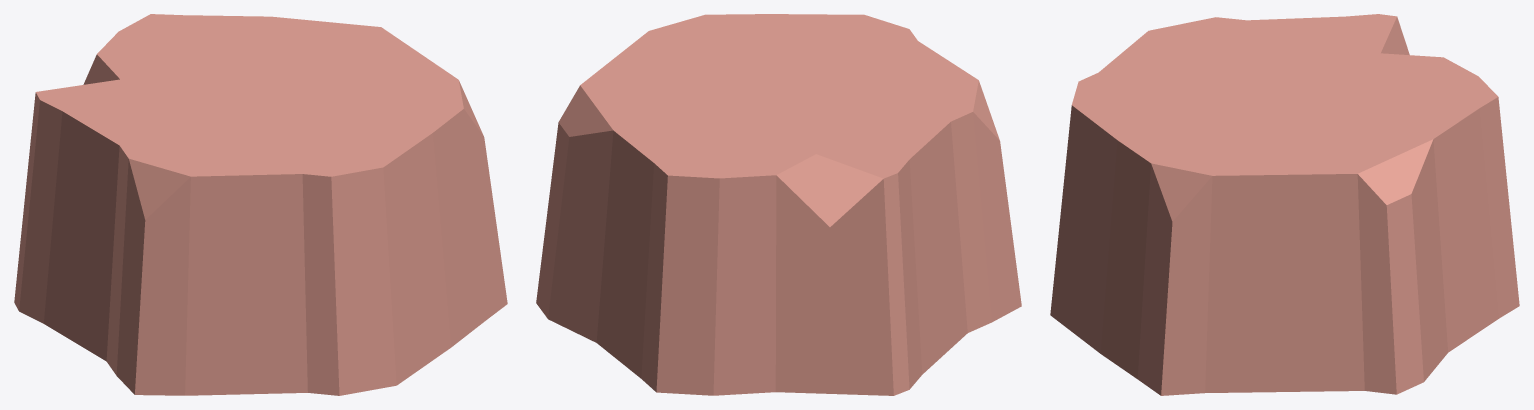
The model's file is SuperGrid_Hexagon_009_Vlad.fbx.
The picture shows the model from 3 angles, left to right: view 1: azimuth 30°, elevation 25°; view 2: azimuth 150°, elevation 25°; view 3: azimuth 270°, elevation 25°; orthographic projection.
Visible parts, largest first — view 1: SuperGrid_Hexagon.009; view 2: SuperGrid_Hexagon.009; view 3: SuperGrid_Hexagon.009.
Boxes of the visible parts, <box> form: SuperGrid_Hexagon.009: <box>14,14,507,395</box>; SuperGrid_Hexagon.009: <box>536,14,1021,395</box>; SuperGrid_Hexagon.009: <box>1050,14,1519,395</box>.
Size of the model in its own units: 18566 by 10000 by 20359.
